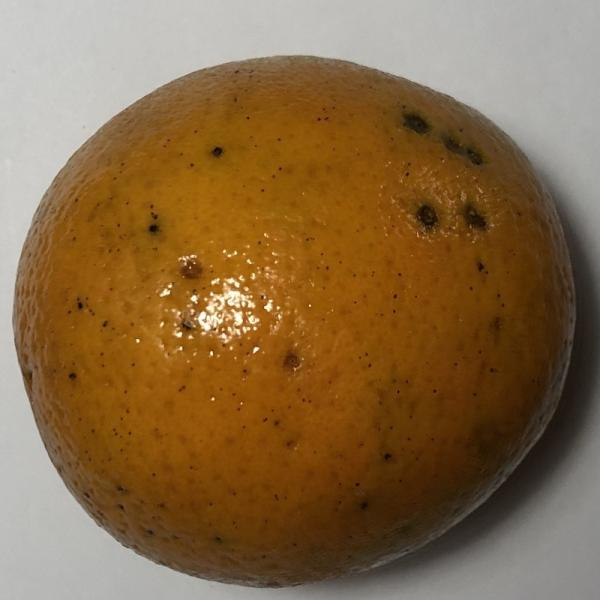Machas negras: (0, 45, 576, 590)
